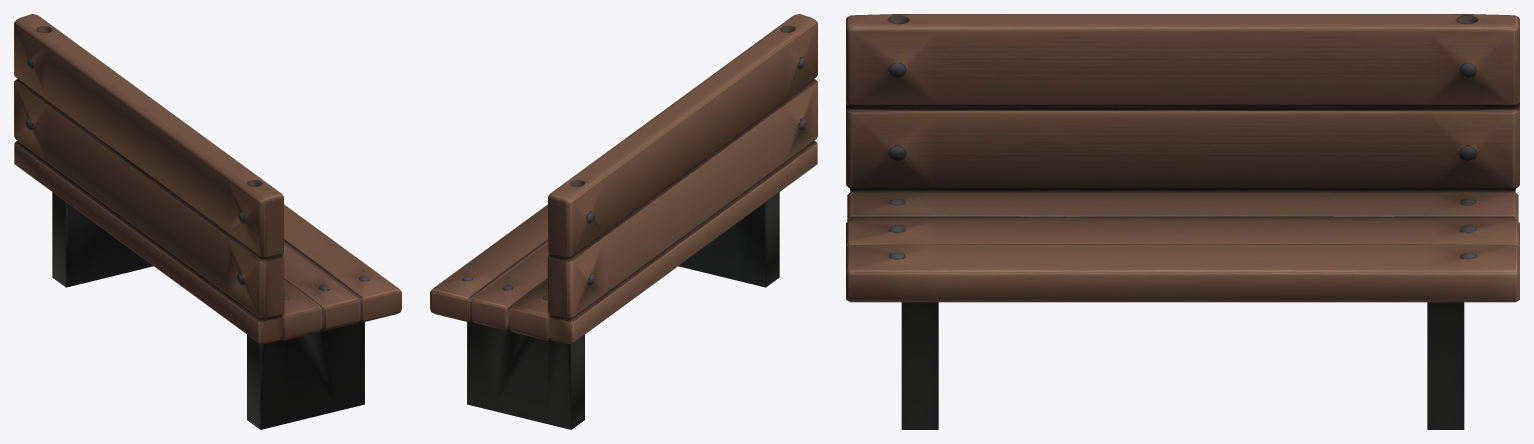
The model's file is park-bench-tripo-original.glb.
The picture shows the model from 3 angles, left to right: view 1: azimuth 30°, elevation 25°; view 2: azimuth 150°, elevation 25°; view 3: azimuth 270°, elevation 25°; orthographic projection. The views are drawn at different scales.
Parts seen in each view (by area): view 1: tripo_node_bc6438f9-16aa-452e-80ef-c835629d88c1; view 2: tripo_node_bc6438f9-16aa-452e-80ef-c835629d88c1; view 3: tripo_node_bc6438f9-16aa-452e-80ef-c835629d88c1.
Boxes of the visible parts, left/top/right/bottom form: tripo_node_bc6438f9-16aa-452e-80ef-c835629d88c1: left=14, top=14, right=401, bottom=429; tripo_node_bc6438f9-16aa-452e-80ef-c835629d88c1: left=430, top=14, right=817, bottom=429; tripo_node_bc6438f9-16aa-452e-80ef-c835629d88c1: left=846, top=14, right=1519, bottom=429.
Size of the model in its own units: 0.3366 by 0.5499 by 0.9961.
1 material, 1 textured.
